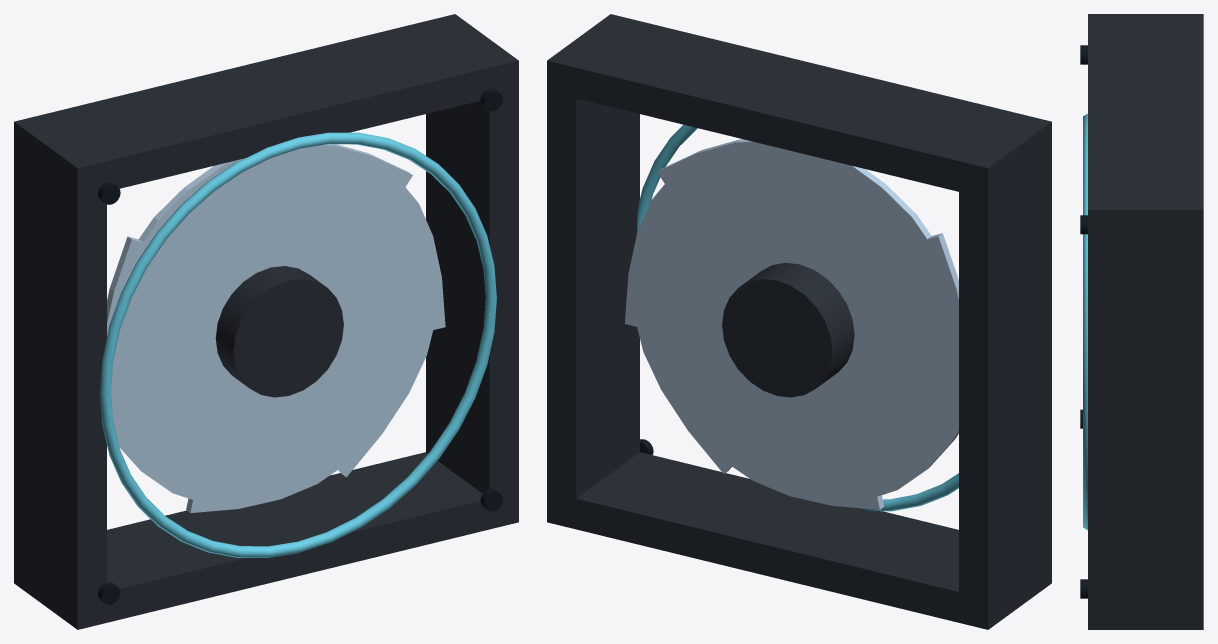
The model's file is retail-phanteks-d30-120-black.glb.
3 views of the same model, side by side, from view 1: azimuth 30°, elevation 25°; view 2: azimuth 150°, elevation 25°; view 3: azimuth 270°, elevation 25° (orthographic). The views are drawn at different scales.
Parts seen in each view (by area): view 1: Frame edge (×4), Blade (×7), Intake rim, Motor hub; view 2: Frame edge (×4), Blade (×7), Motor hub, Intake rim; view 3: Frame edge (×3), Intake rim.
Part boxes in pixels (x1,y1,x2,y2): Frame edge (×4): [14, 14, 518, 629]; Blade (×7): [107, 144, 445, 512]; Intake rim: [99, 132, 496, 557]; Motor hub: [215, 266, 343, 397]; Frame edge (×4): [547, 14, 1051, 629]; Blade (×7): [624, 139, 958, 509]; Motor hub: [722, 262, 854, 397]; Intake rim: [637, 124, 958, 511]; Frame edge (×3): [1088, 14, 1203, 629]; Intake rim: [1083, 113, 1087, 530].
Size of the model in its own units: 0.12 by 0.12 by 0.032.
